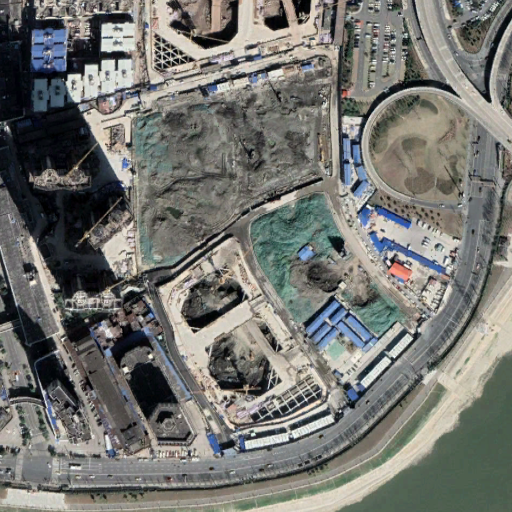cw: (132, 76, 330, 265), (246, 189, 408, 338)
